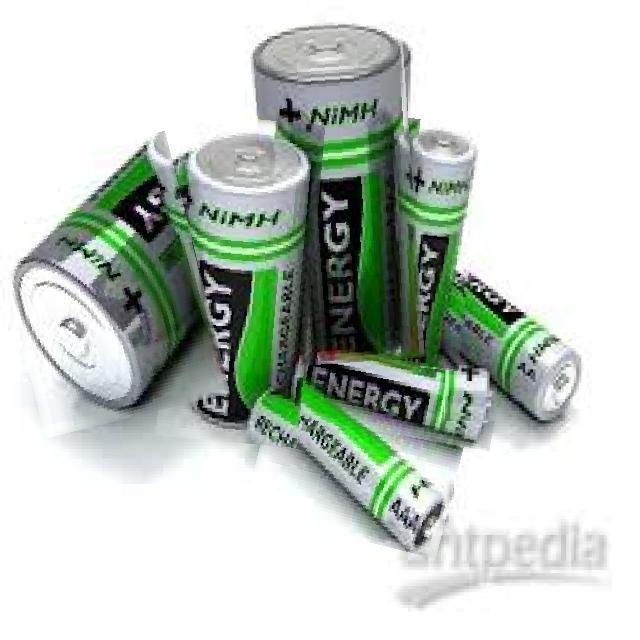Battery: (0, 142, 214, 434), (243, 17, 413, 358), (237, 371, 452, 559), (185, 124, 315, 426), (430, 253, 590, 435), (396, 115, 479, 396), (308, 336, 498, 449)
